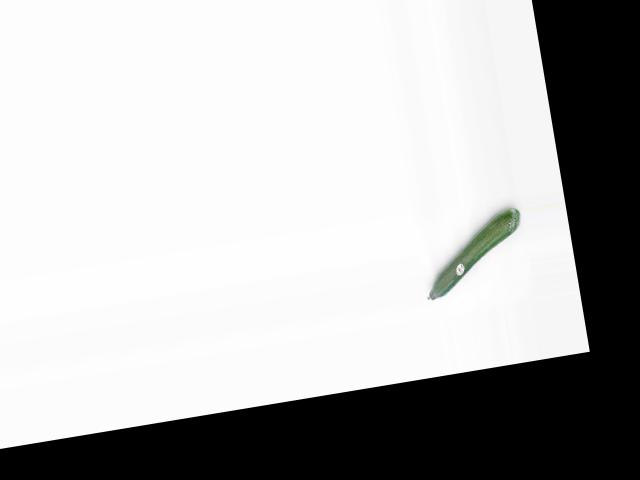cucumber: (414, 207, 530, 300)
